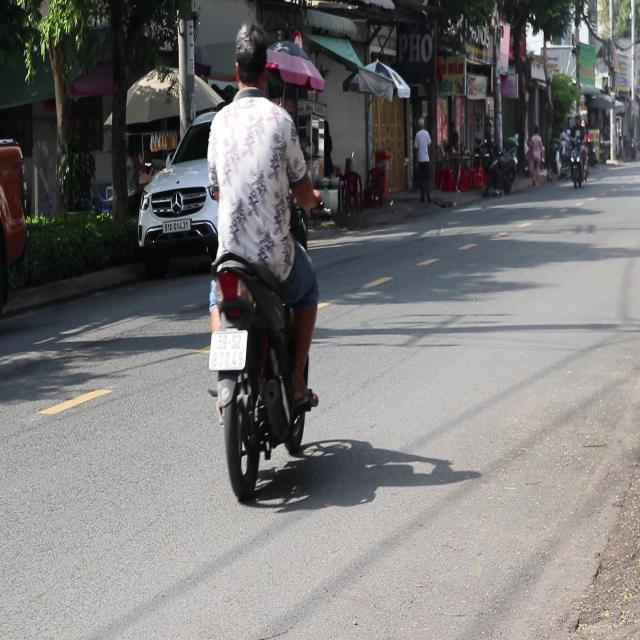licenseplate: (196, 19, 324, 497)
motorcyclist: (232, 20, 269, 96)
nohelmet: (209, 329, 247, 368)
